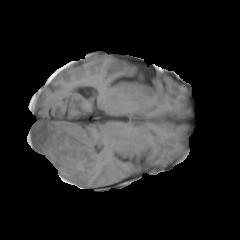glioma: (29, 122, 107, 185)
